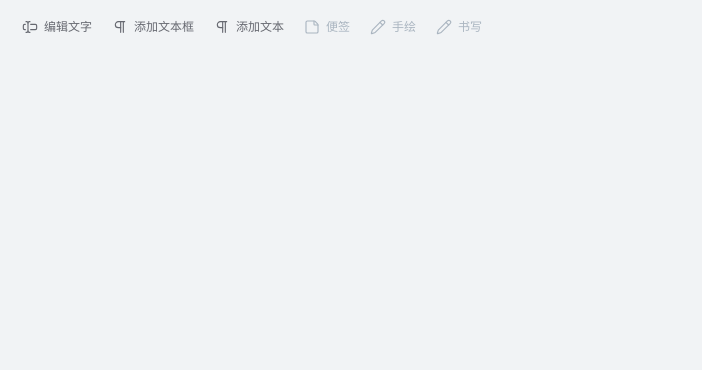
it: PageTextLayer text editing › offers the text style controls while editing original text
The width and height of the screenshot is (702, 370).
expect the element named "文本层" is shown: met, box top-left (12, 12), bottom-right (492, 42)
Click the button "编辑文字" at {"x": 57, "y": 27}, box top-left (12, 12), bottom-right (102, 42)
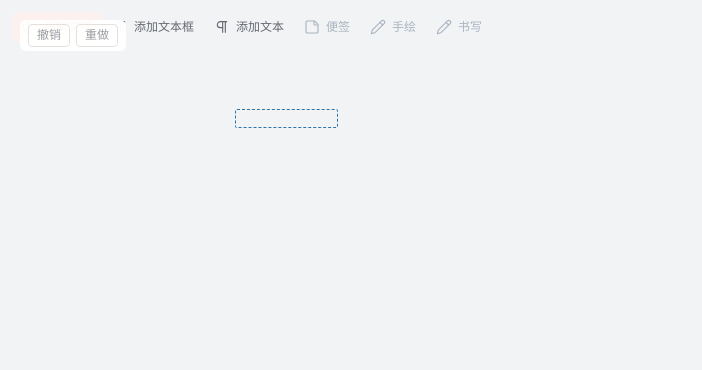
Press the mouse on the element named "文本层" at {"x": 73, "y": 35}, box top-left (12, 12), bottom-right (492, 128)
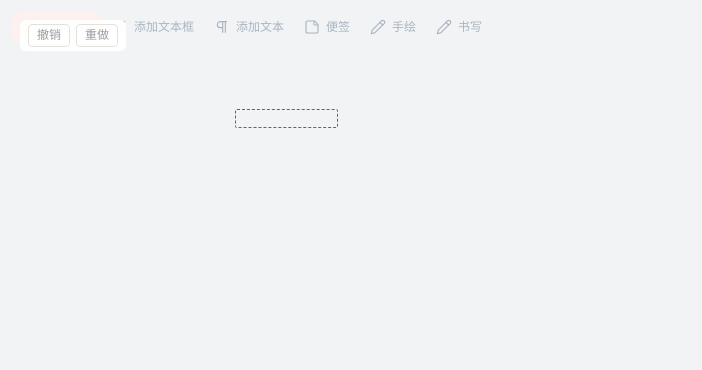
Double-click the element named "文本层" at {"x": 73, "y": 35}, box top-left (12, 12), bottom-right (492, 128)
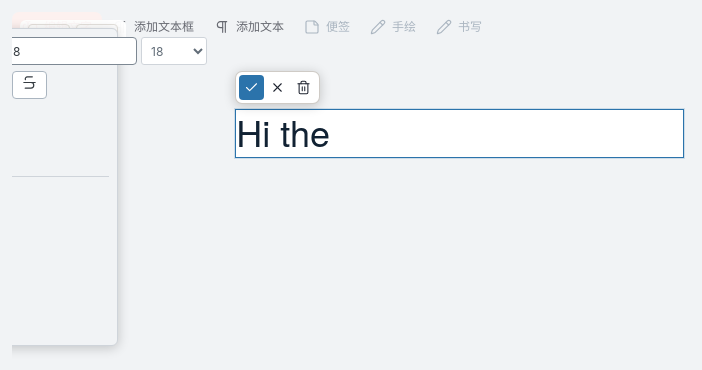
expect the text box named "文字内容" is shown: met, box top-left (236, 110), bottom-right (683, 157)
